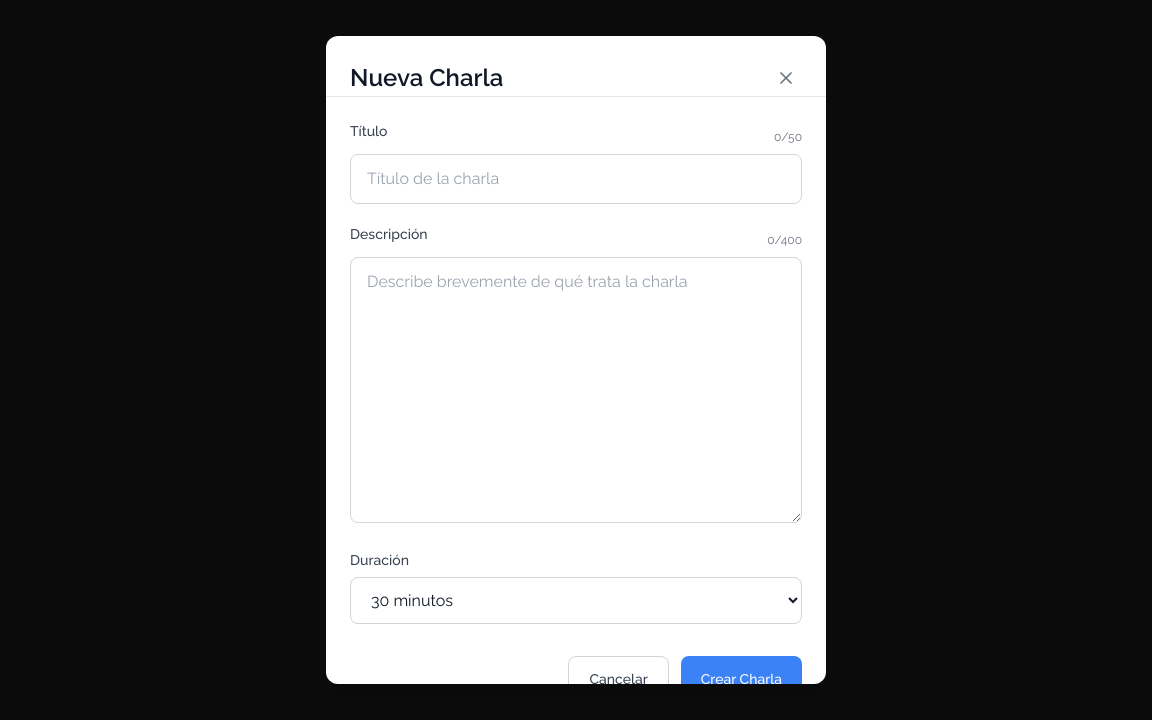
Test: CreateTalkModal › debería mostrar error cuando el título está vacío
This screenshot has width=1152, height=720.
Click the button "Crear Charla" at (741, 680), box [681, 656, 802, 703]
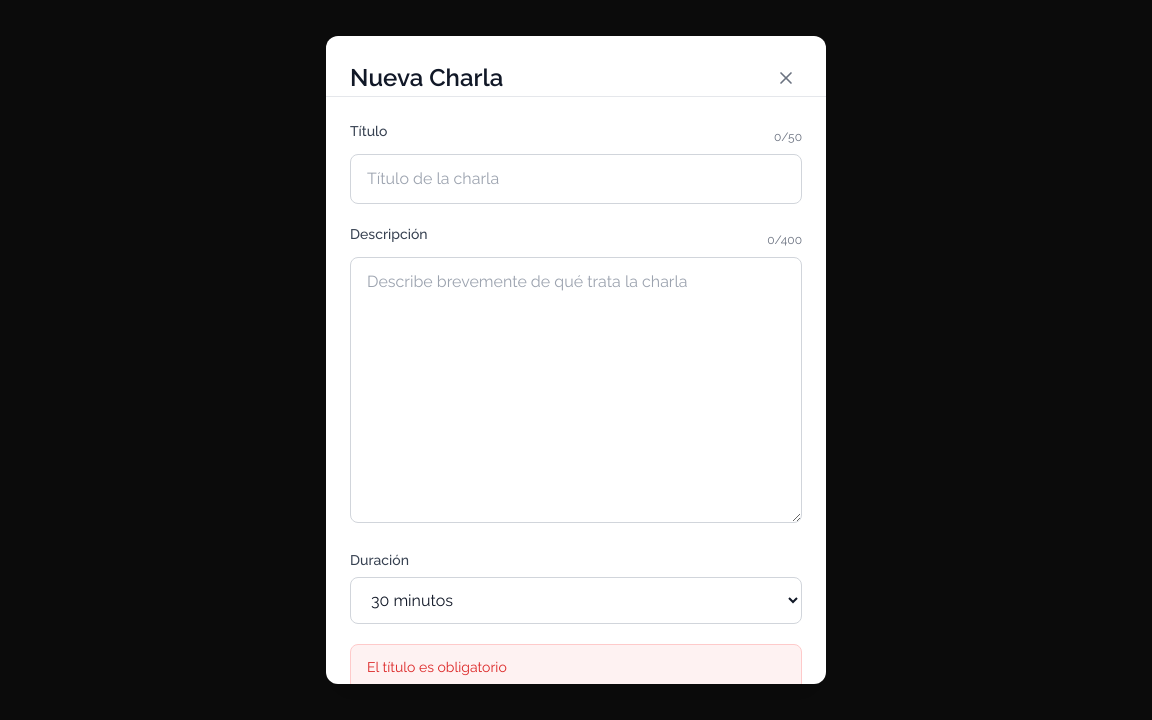
Check: the text "El título es obligatorio" is shown, box [350, 644, 802, 684]
